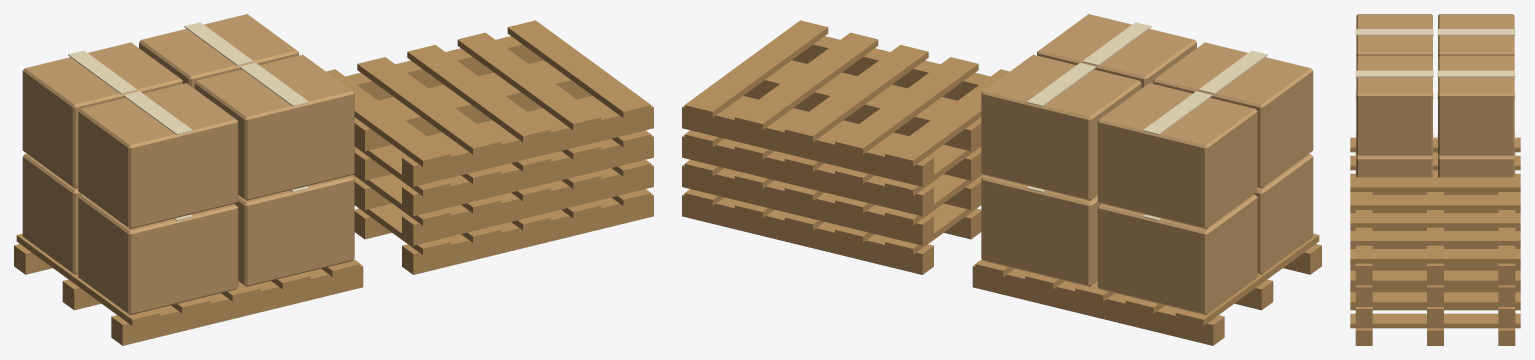
The model's file is PalletStack.fbx.
3 views of the same model, side by side, from view 1: azimuth 30°, elevation 25°; view 2: azimuth 150°, elevation 25°; view 3: azimuth 270°, elevation 25° (orthographic). The views are drawn at different scales.
Visible parts, largest first — view 1: PalletStack; view 2: PalletStack; view 3: PalletStack.
Boxes of the visible parts, x1,y1,x2,y2 form: PalletStack: (14, 14, 653, 345); PalletStack: (682, 14, 1321, 345); PalletStack: (1350, 14, 1520, 345).
Bounding box in the file's own units: 2.65 × 0.9475 × 1.
